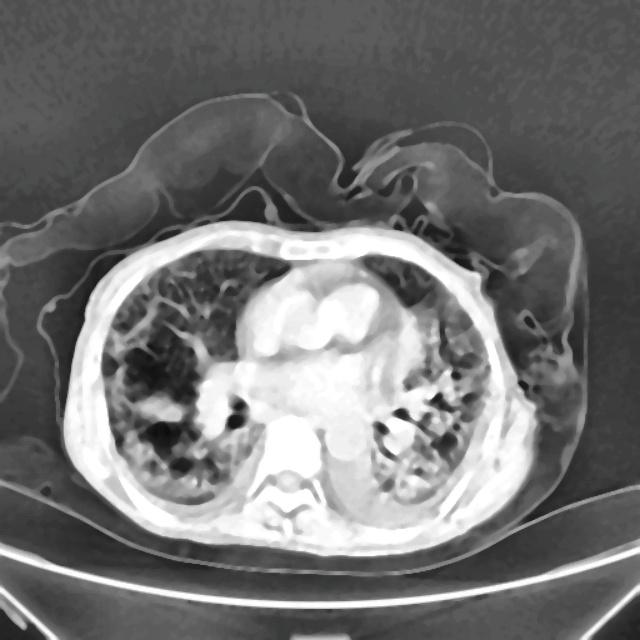covid: (61, 218, 541, 558)
